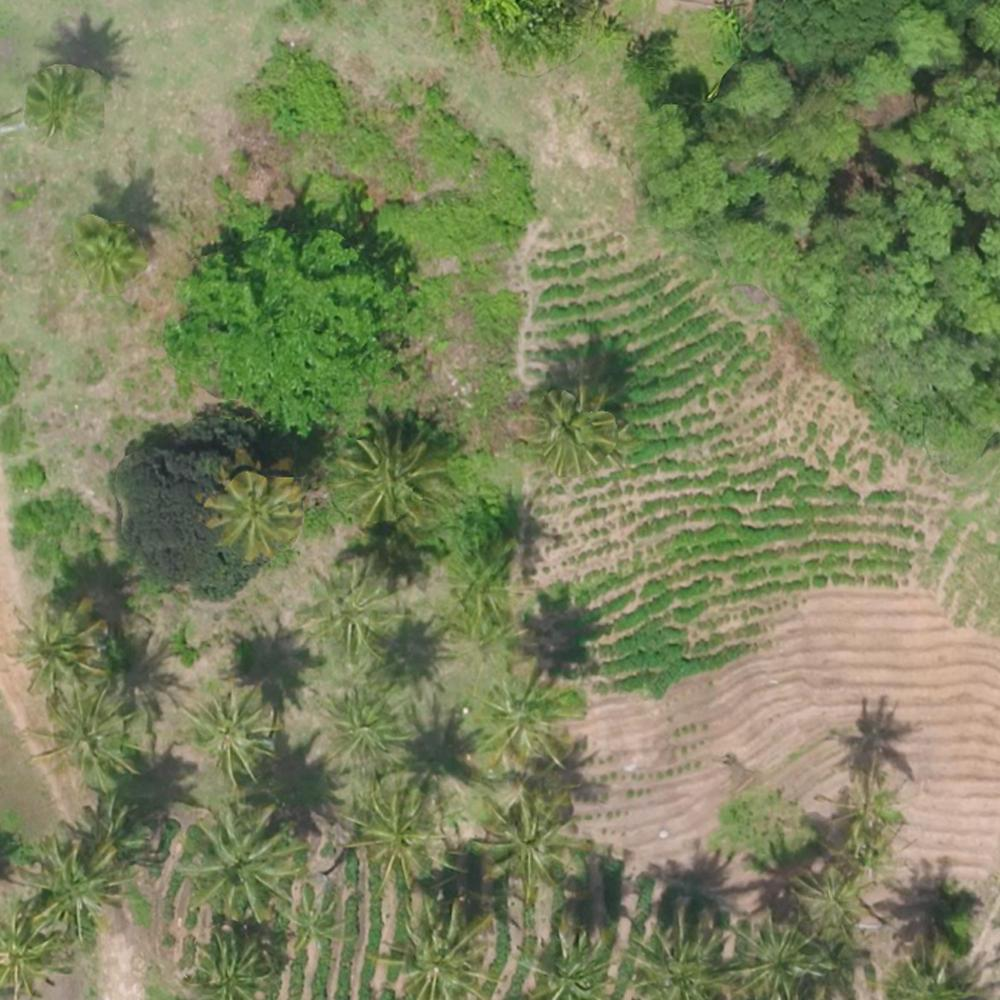Palm: (183, 815, 292, 915), (380, 908, 488, 996), (34, 689, 131, 780), (345, 431, 438, 521), (211, 465, 302, 556), (474, 677, 566, 767), (484, 801, 574, 890), (21, 842, 110, 930), (731, 917, 826, 999), (72, 791, 157, 880), (8, 604, 96, 689), (628, 922, 730, 995), (520, 390, 603, 476), (188, 692, 272, 776), (518, 931, 609, 1000), (307, 568, 387, 646), (357, 796, 432, 878), (318, 691, 396, 764), (192, 930, 271, 999), (71, 222, 138, 286), (22, 73, 85, 130)
